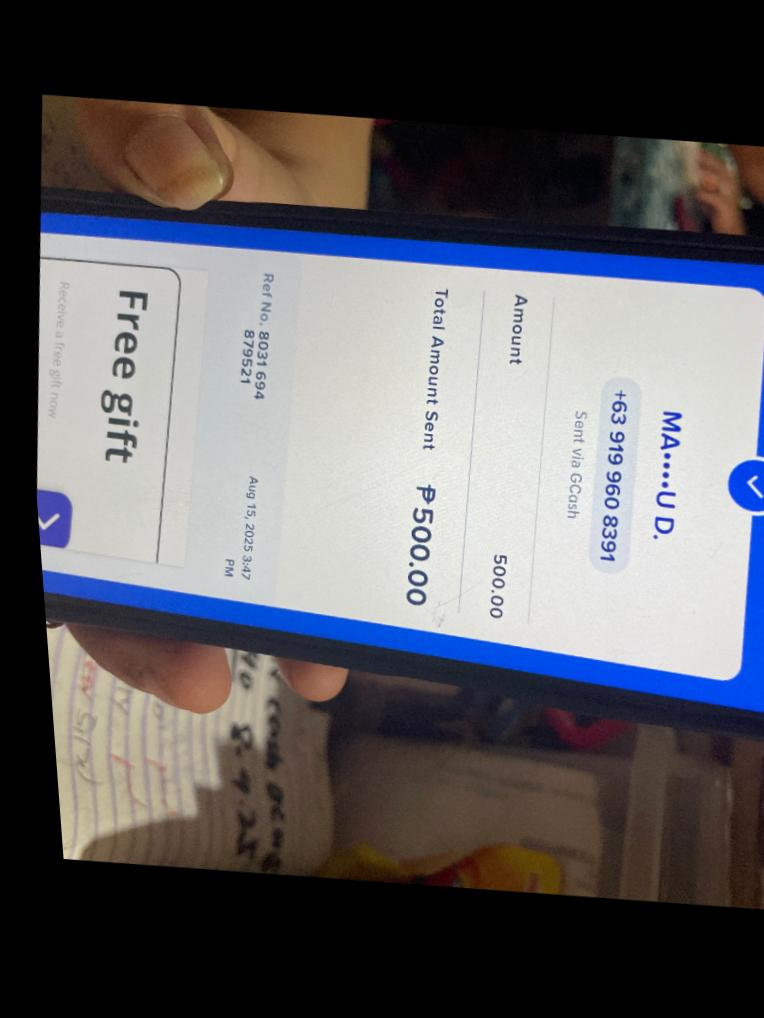Receipt: (36, 216, 764, 712)
